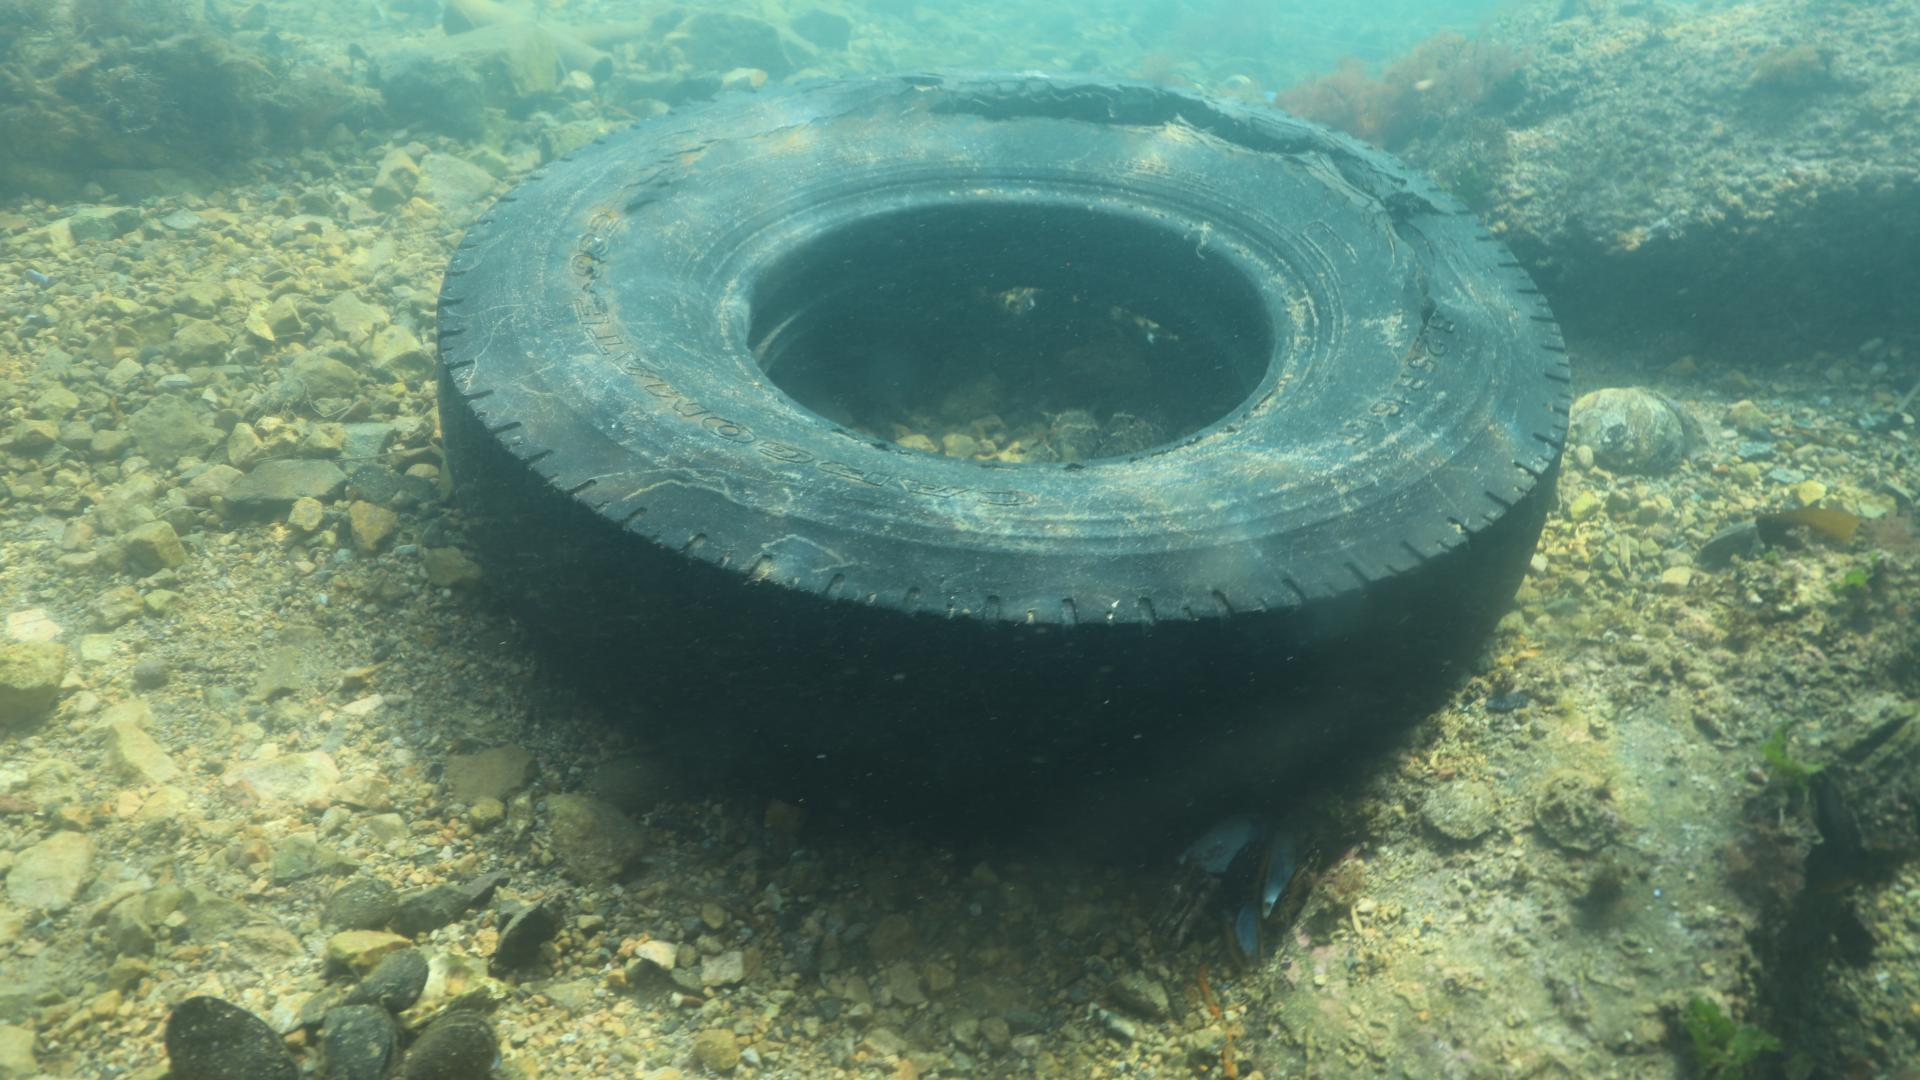tire: (438, 65, 1573, 816)
